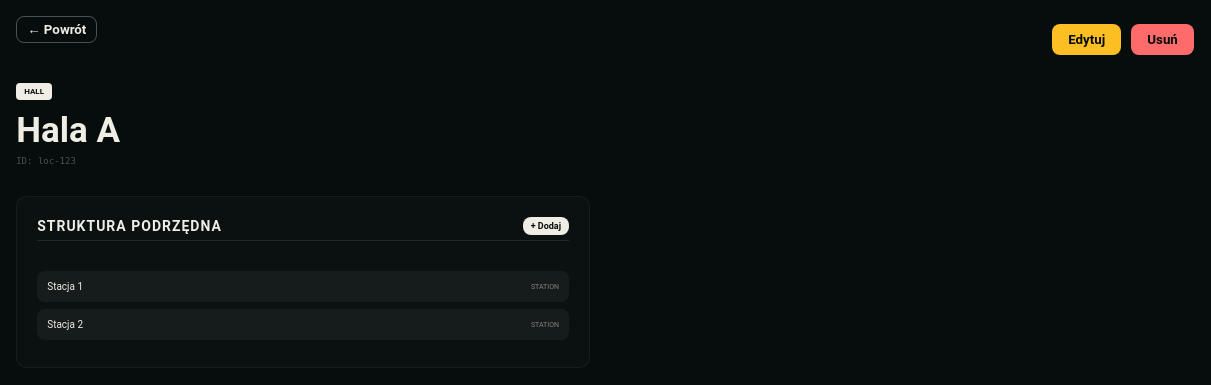
Test: LocationDetailsPage › tryb edycji › kliknięcie Edytuj pokazuje formularz z aktualną nazwą
Expected: the heading "Hala A" is shown, [16,110,120,151]
Click the button "Edytuj": (1087, 40) [1052,24,1121,55]
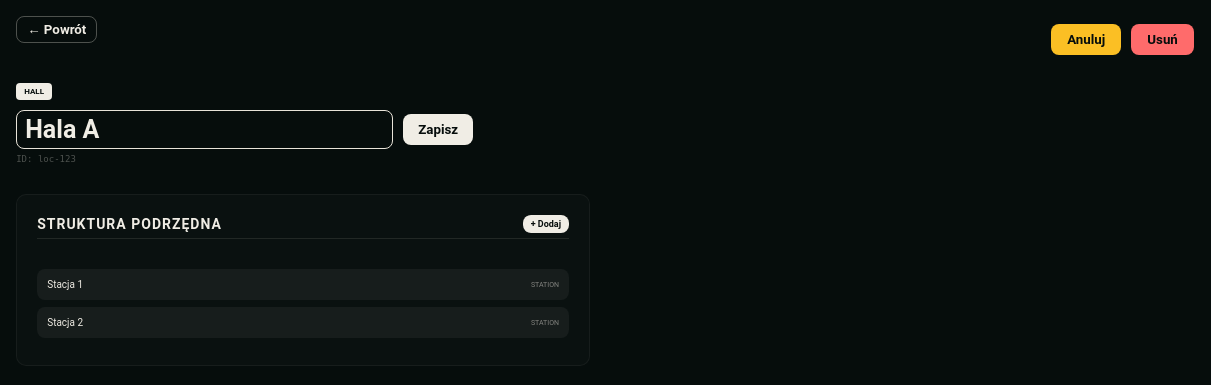
Now the field showing "Hala A" is shown, box [16,110,393,149]
